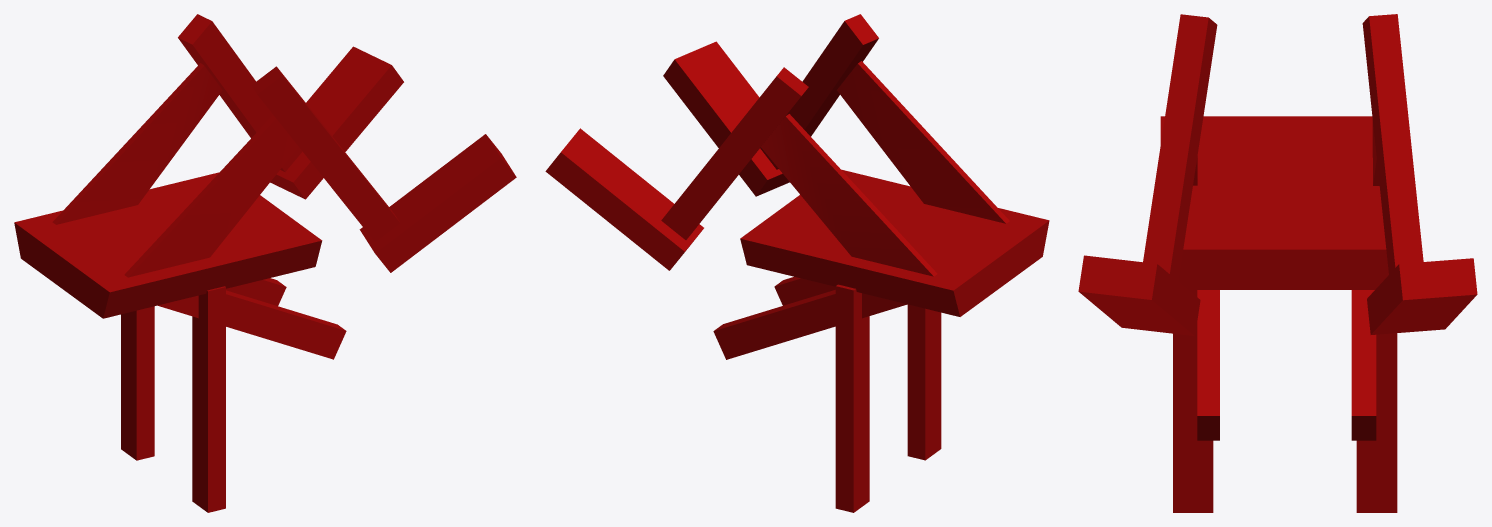
File: SM_Env_Wood_Bridge_Start_01_Collision.glb
3 views of the same model, side by side, from view 1: azimuth 30°, elevation 25°; view 2: azimuth 150°, elevation 25°; view 3: azimuth 270°, elevation 25° (orthographic). The views are drawn at different scales.
Visible parts, largest first — view 1: SM_Env_Wood_Bridge_Start_01_Collision; view 2: SM_Env_Wood_Bridge_Start_01_Collision; view 3: SM_Env_Wood_Bridge_Start_01_Collision.
Boxes of the visible parts, x1,y1,x2,y2 form: SM_Env_Wood_Bridge_Start_01_Collision: (14,14,516,512); SM_Env_Wood_Bridge_Start_01_Collision: (545,14,1049,512); SM_Env_Wood_Bridge_Start_01_Collision: (1078,14,1477,512).
Size of the model in its own units: 8.03 by 8.23 by 5.55.
